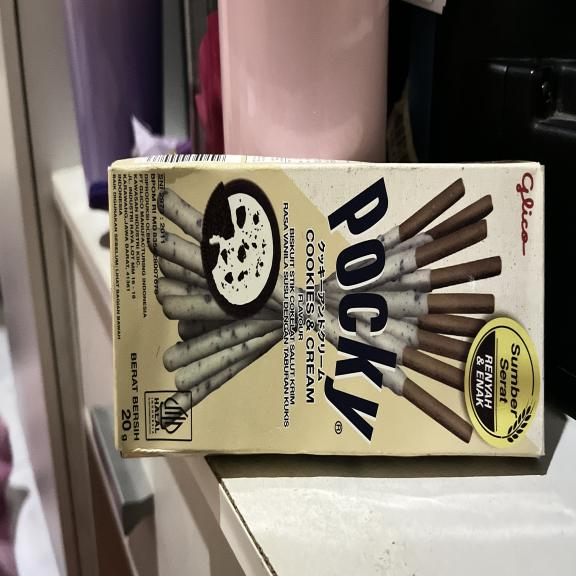Kertas: (109, 165, 545, 456)
